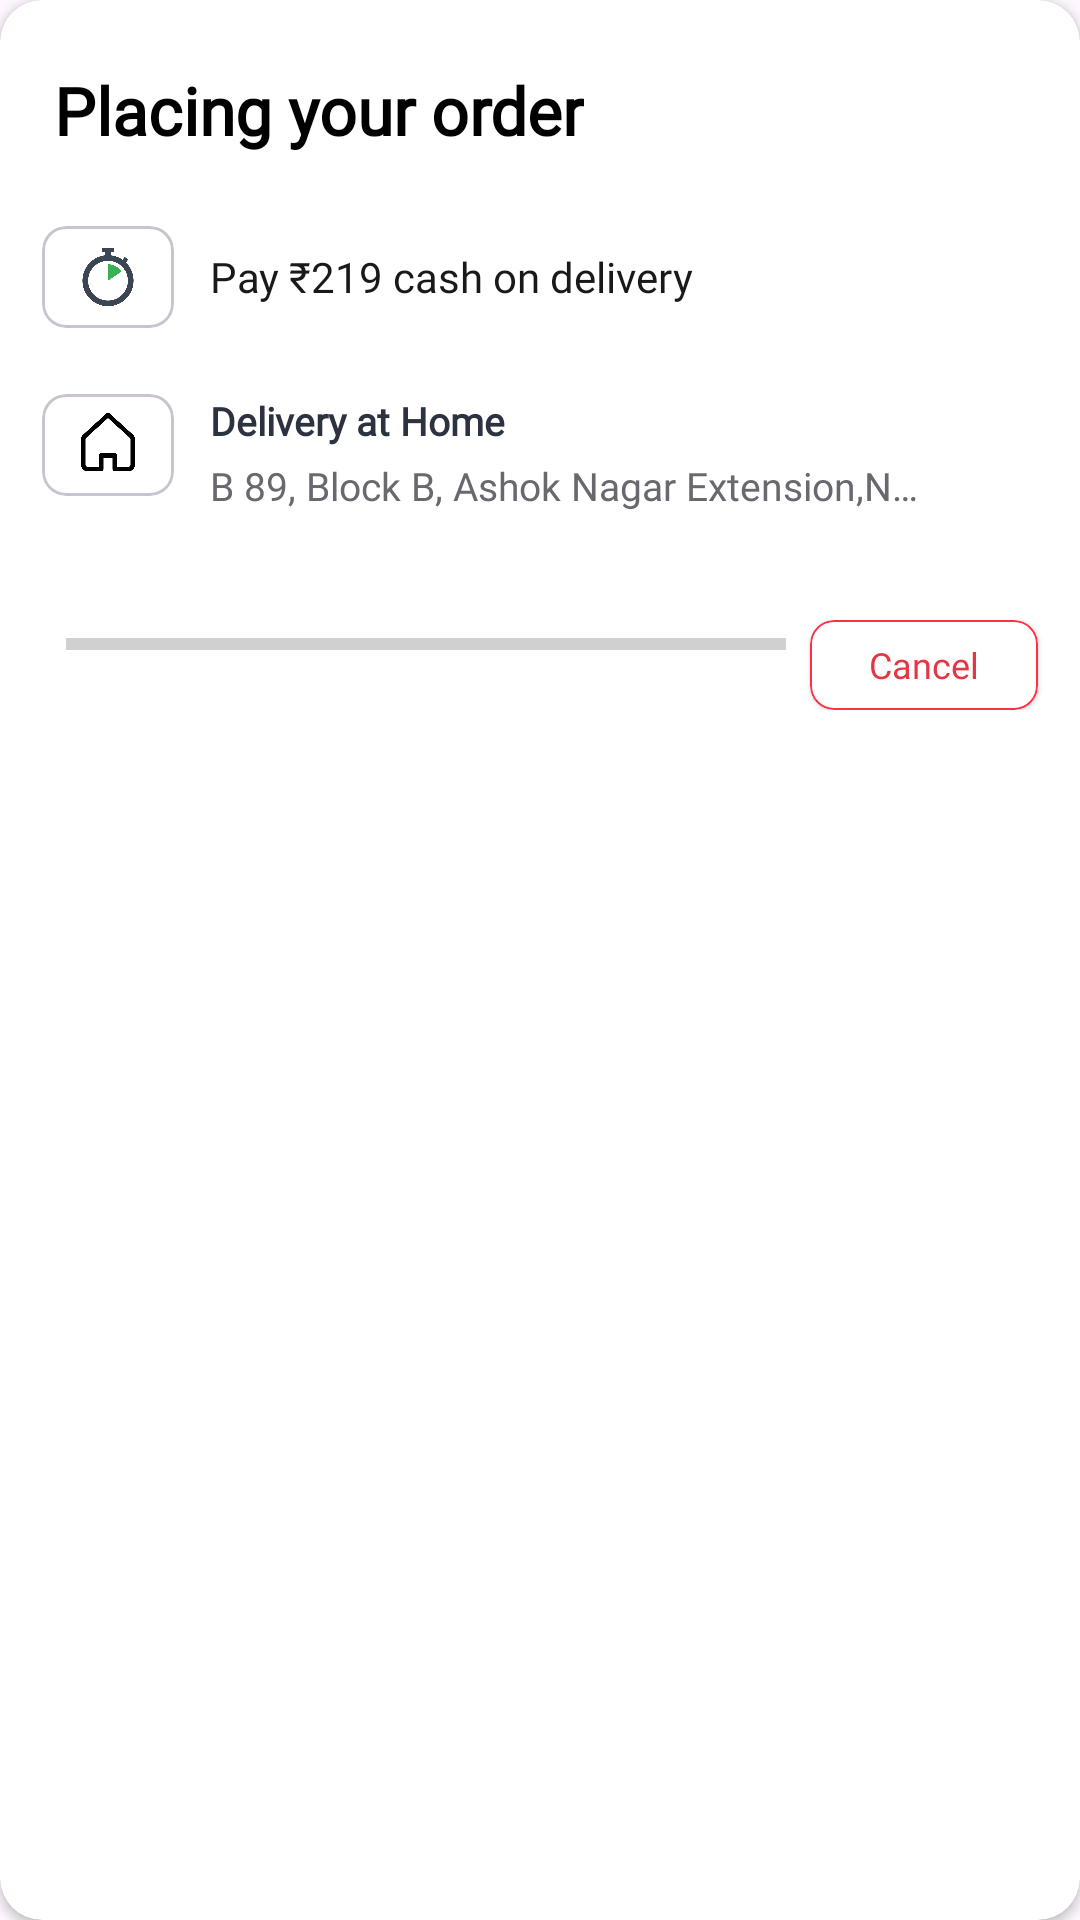

Where icons sit on this 1080x1920 app screen, as (x1, y1, x2, y2):
stop watch: (82, 248, 134, 306)
